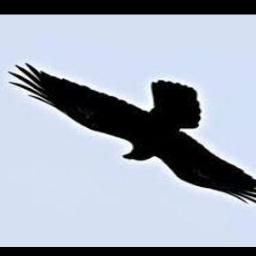Crow: (7, 62, 256, 210)
